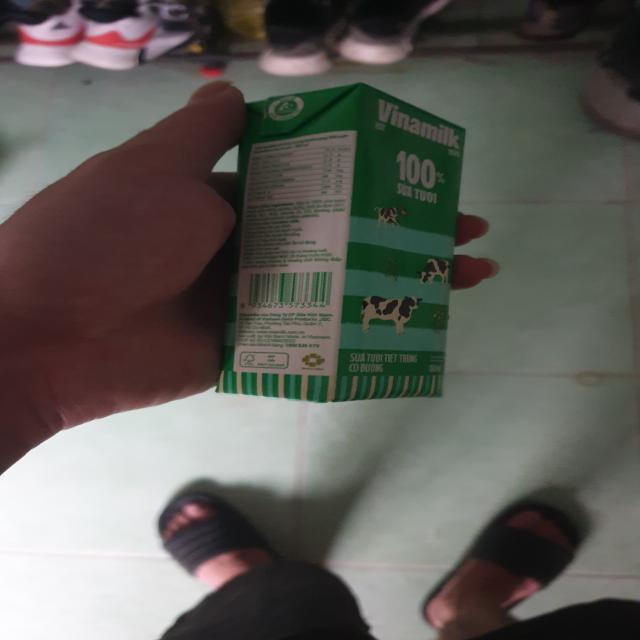Vina: (210, 80, 472, 406)
